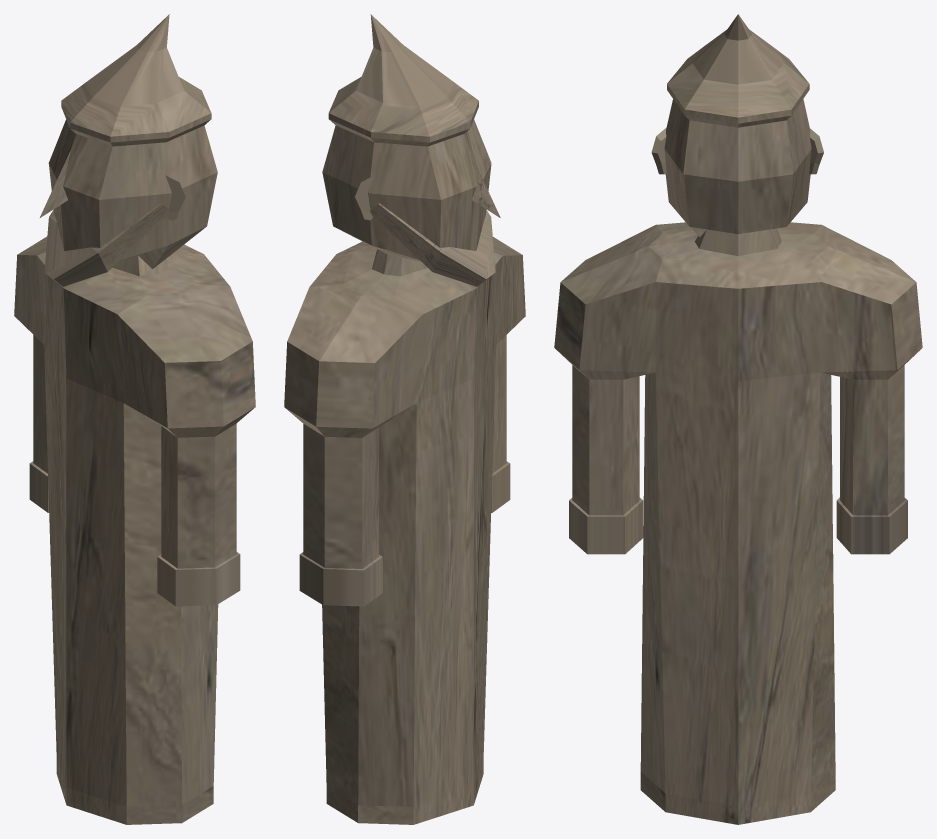
The model's file is Statue4.fbx.
The picture shows the model from 3 angles, left to right: view 1: azimuth 30°, elevation 25°; view 2: azimuth 150°, elevation 25°; view 3: azimuth 270°, elevation 25°; orthographic projection. The views are drawn at different scales.
Parts seen in each view (by area): view 1: Circle, Cube.001, Cube, Circle.001; view 2: Circle, Cube.001, Cube, Circle.001; view 3: Circle, Circle.001.
Boxes of the visible parts, x1,y1,x2,y2 form: Circle: (14, 14, 255, 824); Cube.001: (44, 203, 169, 286); Cube: (40, 151, 70, 217); Circle.001: (165, 175, 185, 220); Circle: (284, 14, 525, 824); Cube.001: (370, 203, 495, 286); Cube: (469, 151, 500, 217); Circle.001: (355, 176, 373, 220); Circle: (554, 14, 922, 824); Circle.001: (651, 127, 823, 174).
Size of the model in its own units: 48.21 by 212 by 89.1.
